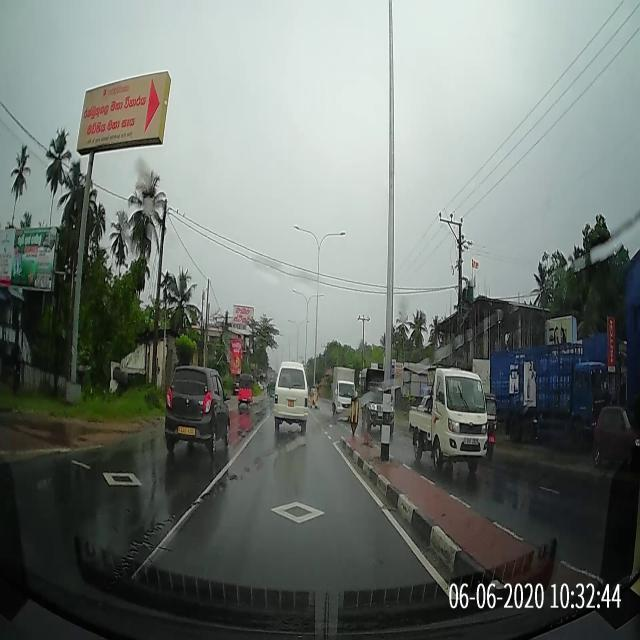diamond: (156, 473, 416, 546)
